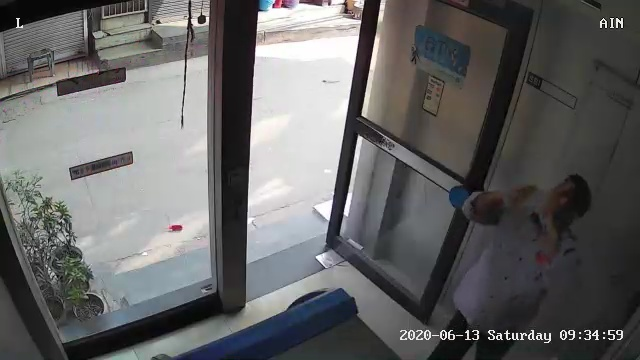open: (204, 4, 543, 337)
